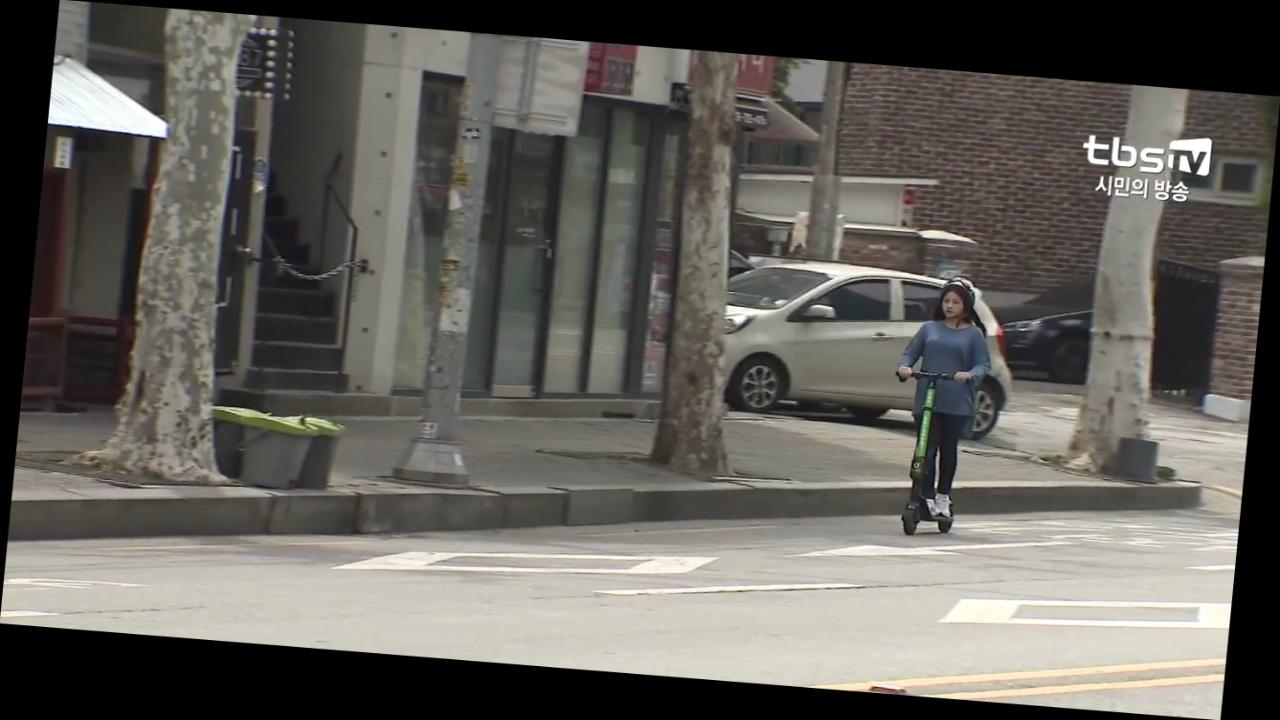helmet: (879, 270, 1002, 540)
